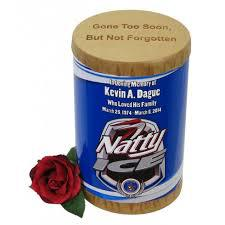beer: (73, 11, 188, 212)
